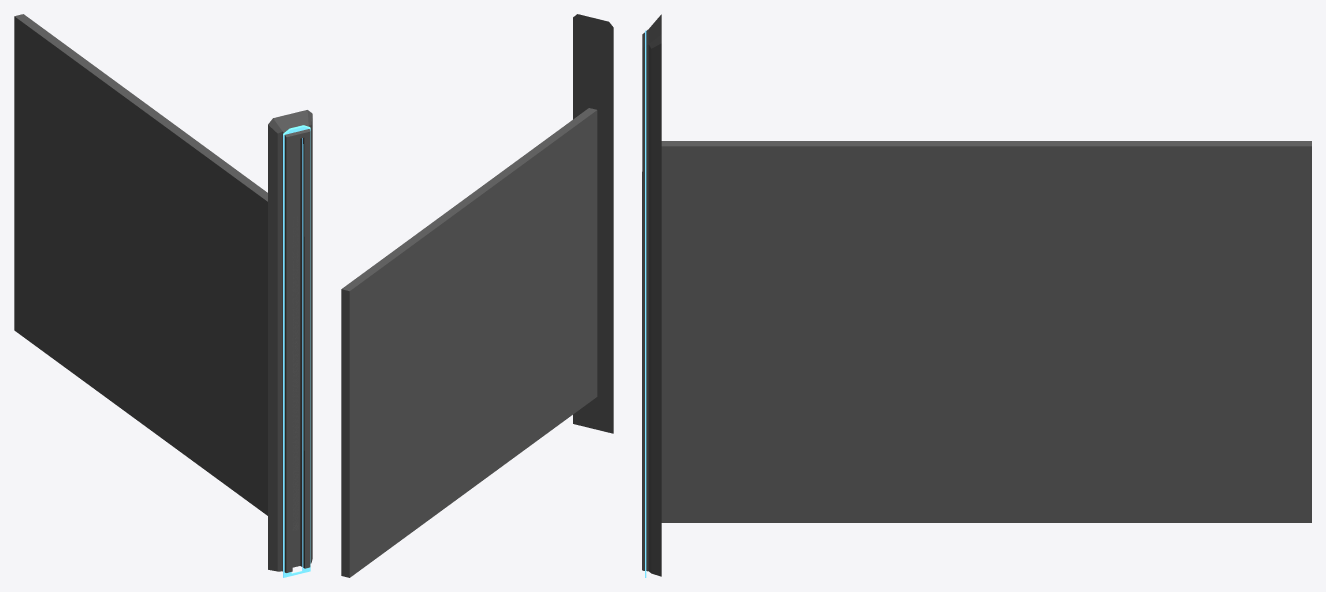
The model's file is Moving_Wall.fbx.
3 views of the same model, side by side, from view 1: azimuth 30°, elevation 25°; view 2: azimuth 150°, elevation 25°; view 3: azimuth 270°, elevation 25° (orthographic). The views are drawn at different scales.
Visible parts, largest first — view 1: Moving_Wall_side, Moving_Wall_Box; view 2: Moving_Wall_side, Moving_Wall_Box; view 3: Moving_Wall_side, Moving_Wall_Box.
Part boxes in pixels (x1,y1,x2,y2): Moving_Wall_side: [14, 14, 298, 530]; Moving_Wall_Box: [268, 110, 312, 577]; Moving_Wall_side: [341, 108, 597, 577]; Moving_Wall_Box: [573, 14, 613, 433]; Moving_Wall_side: [661, 141, 1311, 522]; Moving_Wall_Box: [642, 14, 661, 577].
Size of the model in its own units: 2.51 by 24.47 by 27.21.
